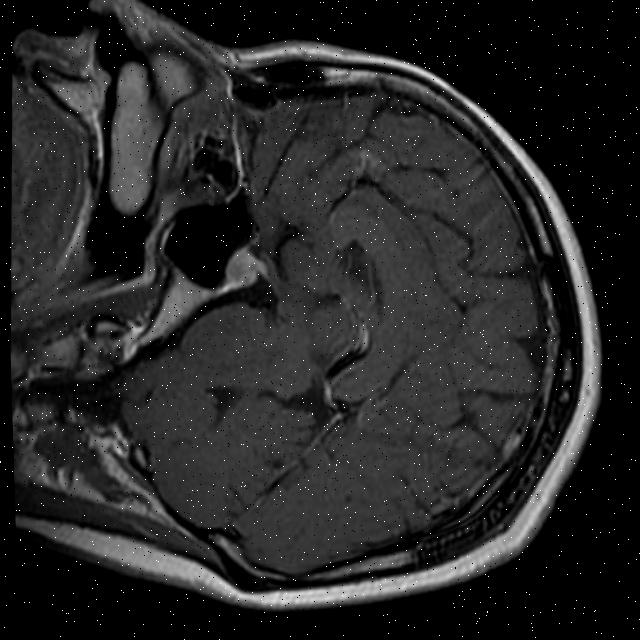Pituitary: (221, 244, 268, 289)
